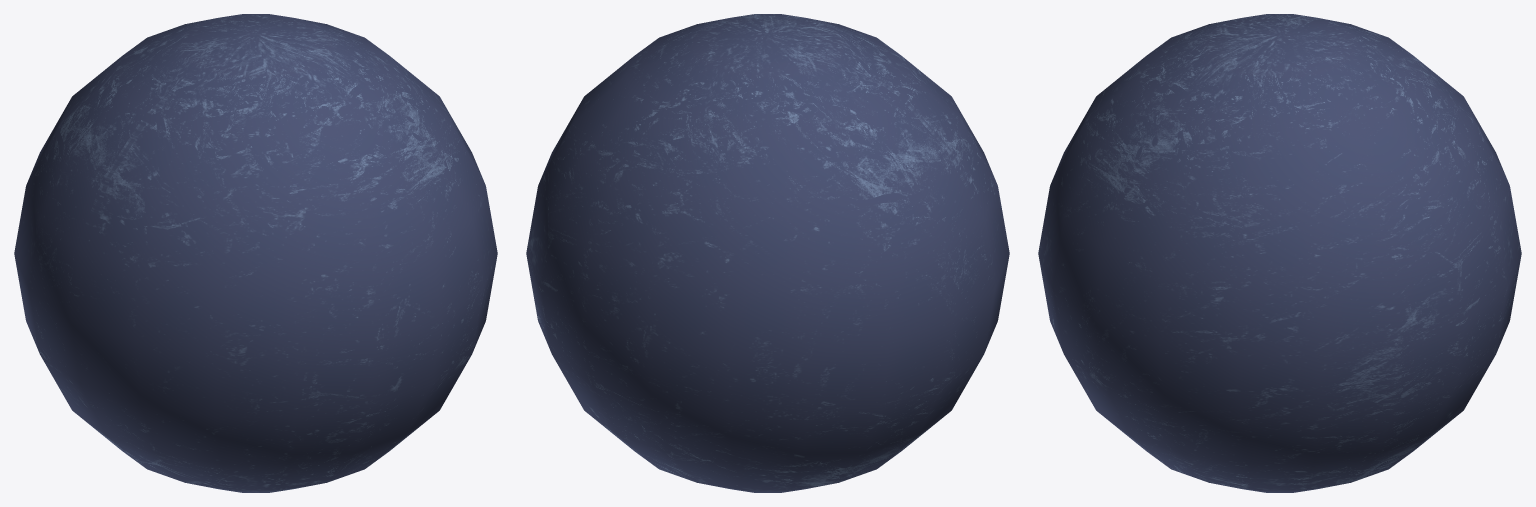
Rendered from cannon_ball_2.fbx.
3 views of the same model, side by side, from view 1: azimuth 30°, elevation 25°; view 2: azimuth 150°, elevation 25°; view 3: azimuth 270°, elevation 25° (orthographic).
Visible parts, largest first — view 1: cannon_ball; view 2: cannon_ball; view 3: cannon_ball.
Boxes of the visible parts, x1=… form: cannon_ball: x1=14, y1=14, x2=497, y2=492; cannon_ball: x1=526, y1=14, x2=1009, y2=492; cannon_ball: x1=1038, y1=14, x2=1521, y2=492.
Size of the model in its own units: 88.65 by 90.02 by 90.02.
